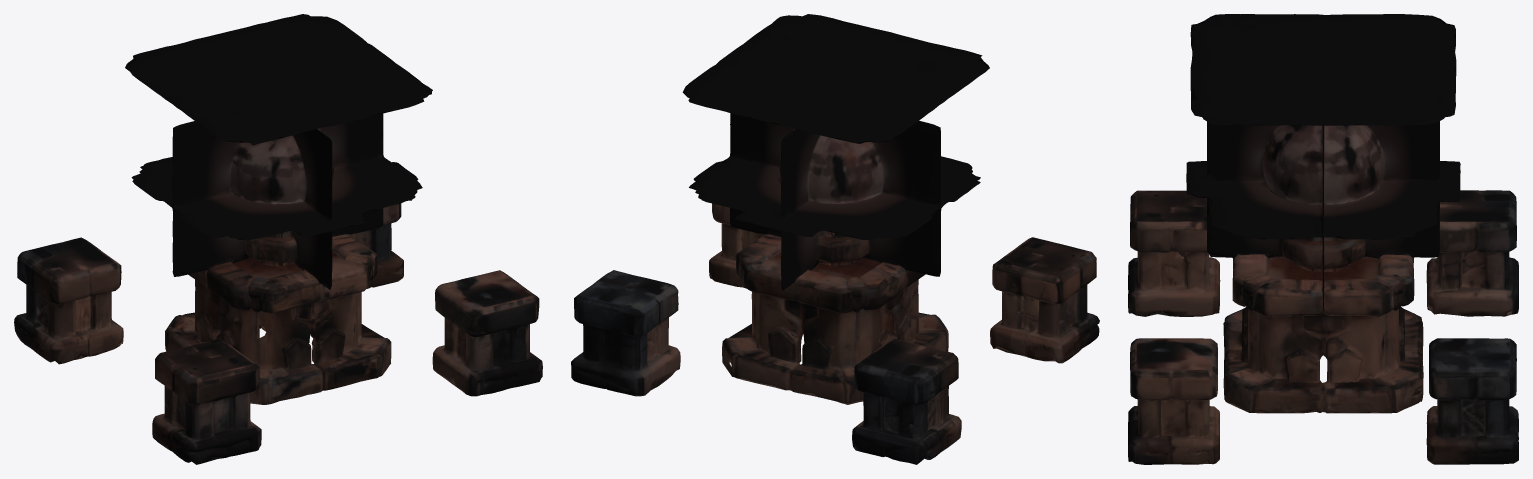
The model's file is shrine_t1.glb.
3 views of the same model, side by side, from view 1: azimuth 30°, elevation 25°; view 2: azimuth 150°, elevation 25°; view 3: azimuth 270°, elevation 25° (orthographic). The views are drawn at different scales.
Visible parts, largest first — view 1: geometry_0; view 2: geometry_0; view 3: geometry_0.
Boxes of the visible parts, x1,y1,x2,y2 form: geometry_0: [14, 14, 542, 464]; geometry_0: [571, 14, 1099, 464]; geometry_0: [1128, 14, 1518, 464].
Bounding box in the file's own units: 0.747 × 0.5624 × 0.6582.
Materials: 1 (1 with a texture image).
